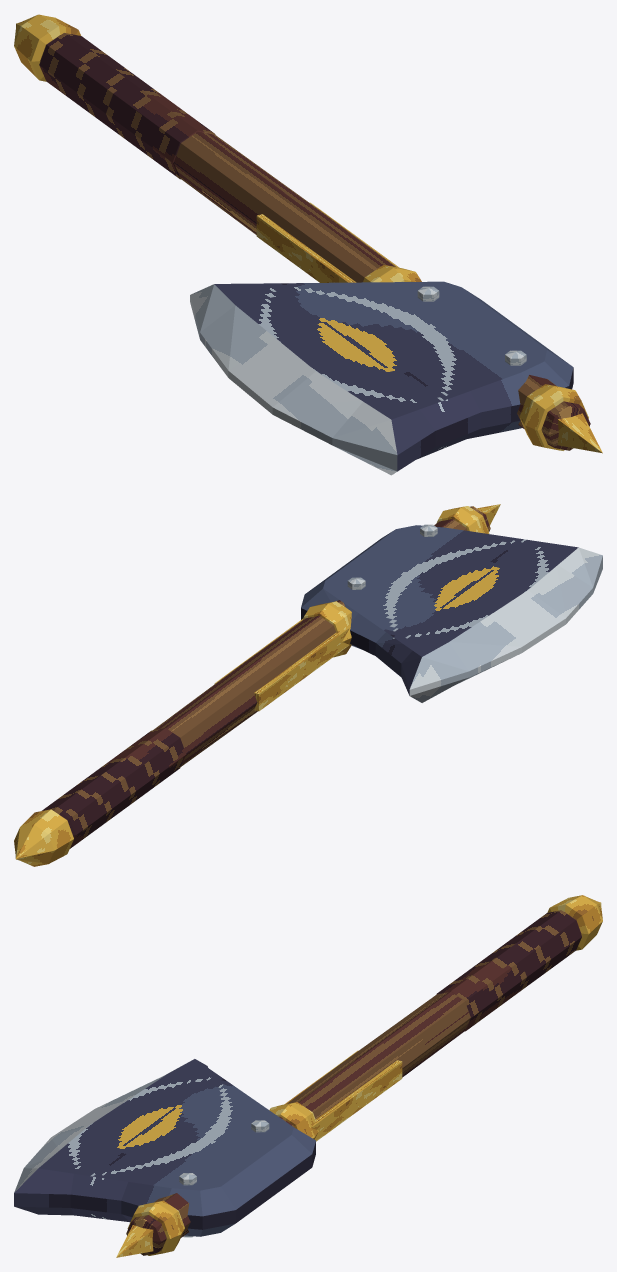
Rendered from axt-a-bartaxt.glb.
3 views of the same model, one above another, from view 1: azimuth 30°, elevation 25°; view 2: azimuth 150°, elevation 25°; view 3: azimuth 330°, elevation 25° (orthographic). The views are drawn at different scales.
Parts seen in each view (by area): view 1: axe; view 2: axe; view 3: axe.
Boxes of the visible parts, bbox=[...] form: axe: bbox=[14, 14, 602, 475]; axe: bbox=[14, 504, 602, 866]; axe: bbox=[14, 895, 602, 1257].
Bounding box in the file's own units: 0.2124 × 0.0578 × 0.8235.
1 material, 1 textured.
